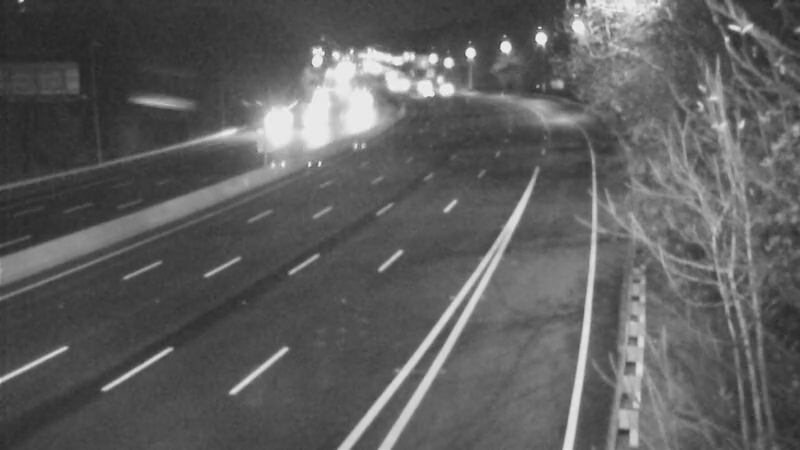vehicle: (250, 97, 300, 147)
